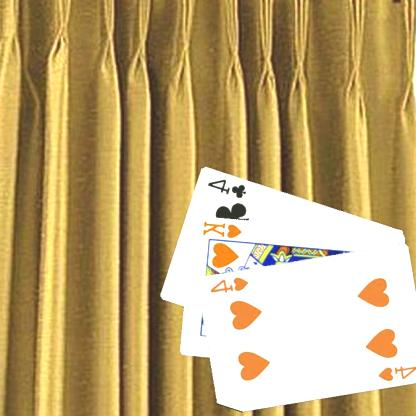4C: (207, 176, 250, 199)
4H: (209, 273, 251, 294), (376, 362, 416, 383)
KH: (202, 218, 244, 239)
